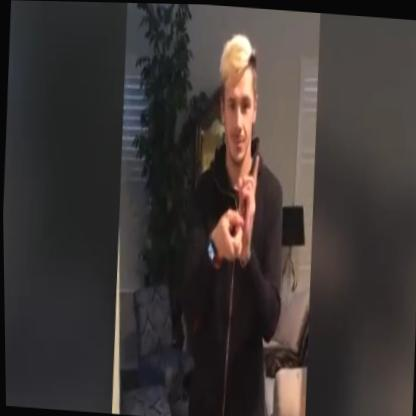NiceToMeetYou: (192, 125, 265, 280)
